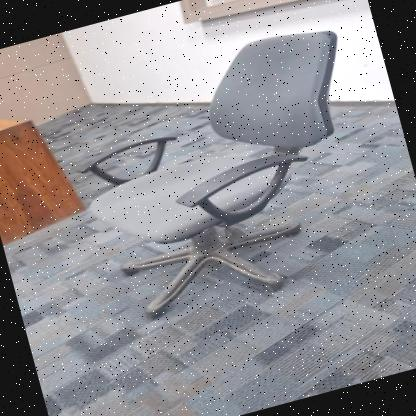chair: (49, 8, 402, 339)
